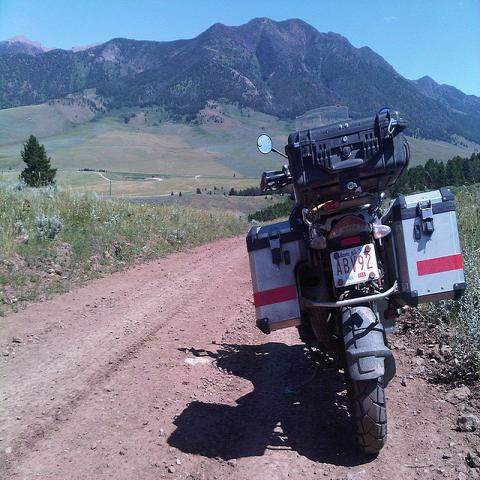motorcycle: (244, 102, 472, 456)
